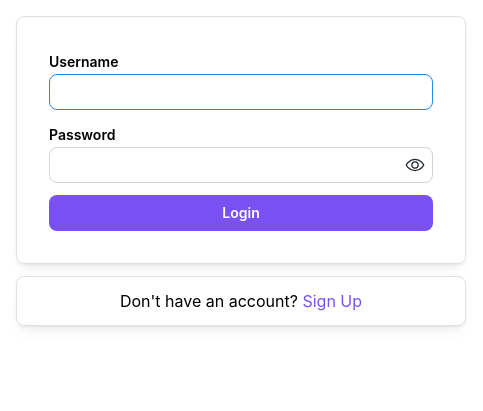
Test: Login › shows error alert when submitting with empty fields
Click the button "Login" at (241, 213), box [49,195,433,231]
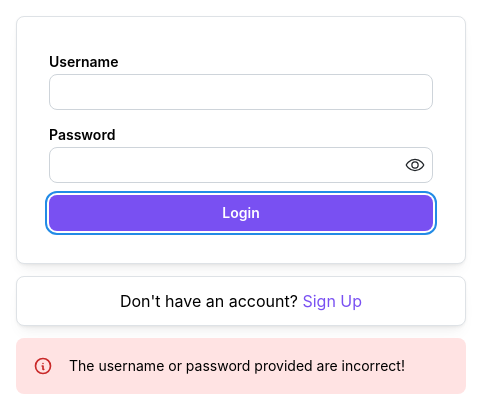
Check: the message "The username or password provided are incorrect!" is shown, box [16,338,466,394]
